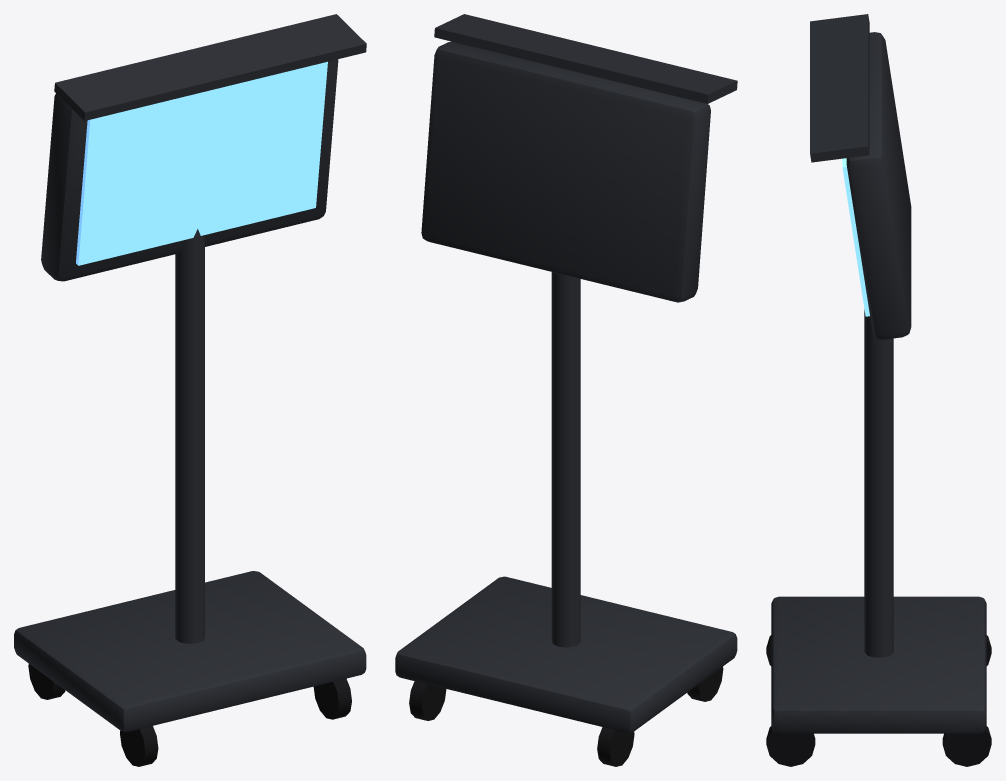
The model's file is monitor-de-video.glb.
3 views of the same model, side by side, from view 1: azimuth 30°, elevation 25°; view 2: azimuth 150°, elevation 25°; view 3: azimuth 270°, elevation 25° (orthographic). The views are drawn at different scales.
Parts seen in each view (by area): view 1: tela, base, quebra-luz, haste, monitor, rodizio, rodizio.002, rodizio.001; view 2: monitor, base, haste, quebra-luz, rodizio.001, rodizio.003, rodizio; view 3: base, monitor, haste, quebra-luz, rodizio.002, rodizio.003, tela.
Boxes of the visible parts, x1=… form: tela: x1=76, y1=61, x2=327, y2=265; base: x1=14, y1=571, x2=366, y2=731; quebra-luz: x1=54, y1=14, x2=366, y2=120; haste: x1=175, y1=229, x2=204, y2=643; monitor: x1=41, y1=59, x2=338, y2=281; rodizio: x1=120, y1=726, x2=158, y2=766; rodizio.002: x1=313, y1=678, x2=351, y2=719; rodizio.001: x1=28, y1=663, x2=65, y2=699; monitor: x1=421, y1=41, x2=710, y2=302; base: x1=395, y1=576, x2=737, y2=732; haste: x1=551, y1=272, x2=580, y2=647; quebra-luz: x1=434, y1=14, x2=737, y2=103; rodizio.001: x1=597, y1=727, x2=634, y2=766; rodizio.003: x1=409, y1=681, x2=446, y2=720; rodizio: x1=687, y1=666, x2=723, y2=701; base: x1=771, y1=596, x2=986, y2=733; monitor: x1=846, y1=32, x2=911, y2=339; haste: x1=864, y1=309, x2=893, y2=657; quebra-luz: x1=810, y1=14, x2=869, y2=162; rodizio.002: x1=766, y1=726, x2=815, y2=766; rodizio.003: x1=942, y1=726, x2=991, y2=766; tela: x1=842, y1=158, x2=869, y2=316.
Size of the model in its own units: 0.64 by 1.44 by 0.46.
